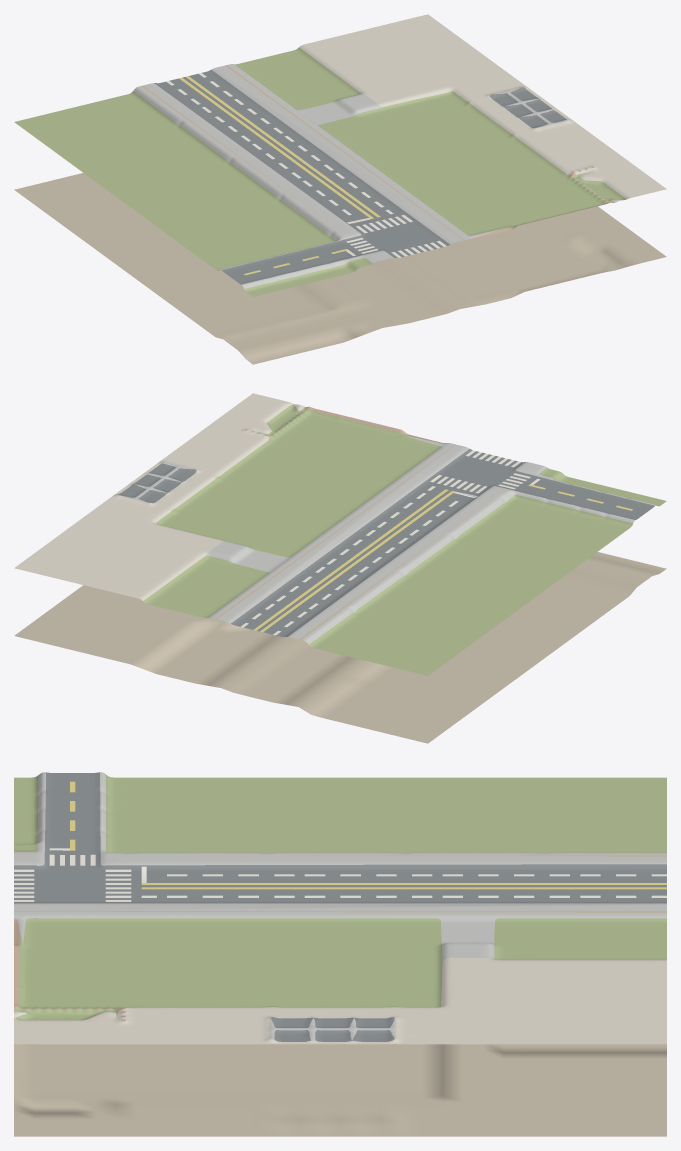
The picture shows the model from 3 angles, top to bottom: view 1: azimuth 30°, elevation 25°; view 2: azimuth 150°, elevation 25°; view 3: azimuth 270°, elevation 25°; orthographic projection. The views are drawn at different scales.
Parts seen in each view (by area): view 1: s_-3_2__grass, s_-3_2__soil, s_-3_2__paving, s_-3_2__asphalt, s_-3_2__stone_paving, s_-3_2__white_marking, s_-3_2__yellow_marking, s_-3_2__timber_deck; view 2: s_-3_2__grass, s_-3_2__soil, s_-3_2__paving, s_-3_2__asphalt, s_-3_2__stone_paving, s_-3_2__white_marking, s_-3_2__yellow_marking, s_-3_2__timber_deck, s_-3_2__brick_paving; view 3: s_-3_2__grass, s_-3_2__soil, s_-3_2__paving, s_-3_2__asphalt, s_-3_2__stone_paving, s_-3_2__white_marking, s_-3_2__yellow_marking, s_-3_2__timber_deck, s_-3_2__brick_paving.
Boxes of the visible parts, bbox=[...] form: s_-3_2__grass: bbox=[14, 47, 625, 296]; s_-3_2__soil: bbox=[14, 173, 666, 364]; s_-3_2__paving: bbox=[299, 14, 666, 202]; s_-3_2__asphalt: bbox=[154, 69, 566, 284]; s_-3_2__stone_paving: bbox=[133, 64, 568, 288]; s_-3_2__white_marking: bbox=[166, 73, 446, 257]; s_-3_2__yellow_marking: bbox=[179, 76, 380, 275]; s_-3_2__timber_deck: bbox=[141, 65, 463, 240]; s_-3_2__grass: bbox=[143, 404, 666, 675]; s_-3_2__soil: bbox=[14, 552, 666, 743]; s_-3_2__paving: bbox=[14, 393, 304, 600]; s_-3_2__asphalt: bbox=[118, 448, 654, 636]; s_-3_2__stone_paving: bbox=[117, 435, 655, 644]; s_-3_2__white_marking: bbox=[240, 450, 540, 635]; s_-3_2__yellow_marking: bbox=[254, 484, 632, 632]; s_-3_2__timber_deck: bbox=[215, 444, 489, 639]; s_-3_2__brick_paving: bbox=[245, 406, 446, 443]; s_-3_2__grass: bbox=[14, 775, 666, 1020]; s_-3_2__soil: bbox=[14, 918, 666, 1136]; s_-3_2__paving: bbox=[14, 958, 666, 1044]; s_-3_2__asphalt: bbox=[14, 772, 666, 1041]; s_-3_2__stone_paving: bbox=[14, 772, 666, 1041]; s_-3_2__white_marking: bbox=[14, 848, 666, 901]; s_-3_2__yellow_marking: bbox=[70, 781, 666, 889]; s_-3_2__timber_deck: bbox=[14, 855, 666, 912]; s_-3_2__brick_paving: bbox=[14, 918, 125, 1021].
Bounding box in the file's own units: 128 × 22.43 × 128.
